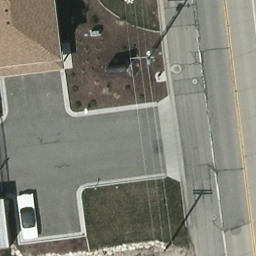car: (15, 194, 40, 238)
